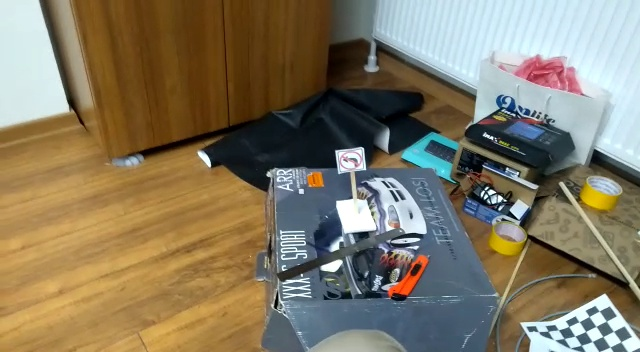sola_donulmez: (336, 149, 366, 174)
